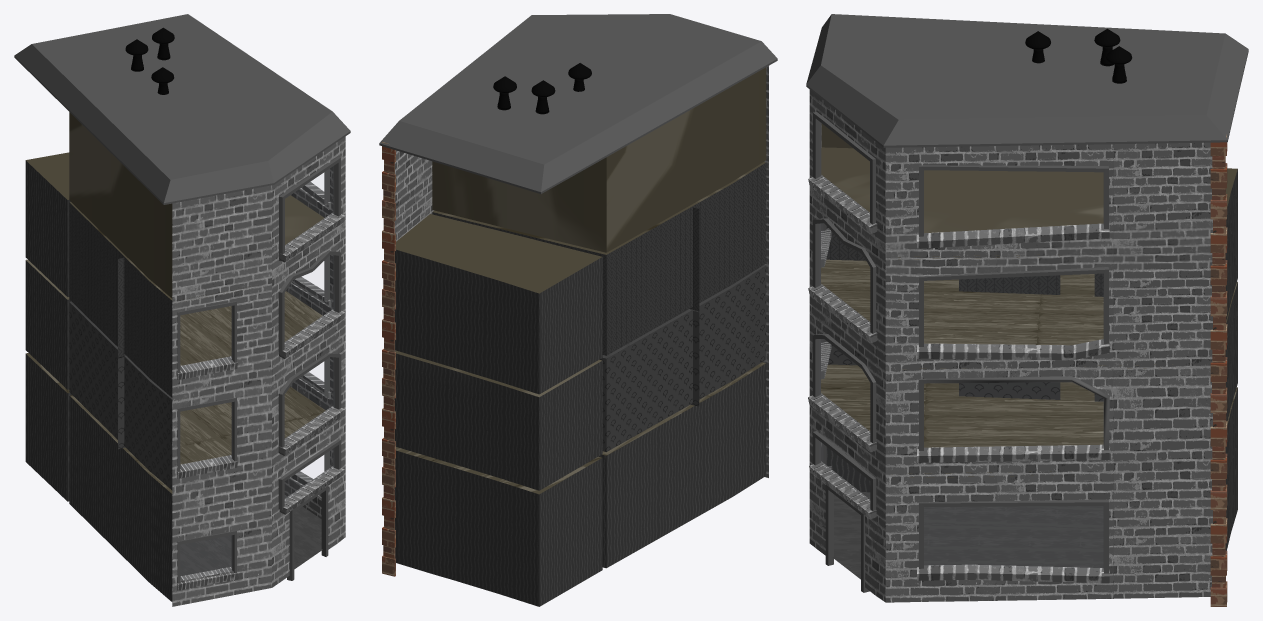
File: Right Building old.fbx
3 views of the same model, side by side, from view 1: azimuth 30°, elevation 25°; view 2: azimuth 150°, elevation 25°; view 3: azimuth 270°, elevation 25° (orthographic). The views are drawn at different scales.
Visible parts, largest first — view 1: Right_Building_Front, Right_Floor_1, Right_Floor_3, Right_Floor_2, Right_Floor_4, polySurface2387, polySurface2386; view 2: Right_Building_Front, Right_Floor_3, Right_Floor_1, Right_Floor_2, Right_Floor_4; view 3: Right_Building_Front, Right_Floor_3, Right_Floor_2, Right_Floor_1, Right_Floor_4, polySurface2387.
Boxes of the visible parts, x1,y1,x2,y2 form: Right_Building_Front: (14,14,350,606); Right_Floor_1: (25,353,322,601); Right_Floor_3: (25,152,322,397); Right_Floor_2: (25,259,325,490); Right_Floor_4: (69,112,324,298); polySurface2387: (152,27,174,60); polySurface2386: (125,39,148,71); Right_Building_Front: (379,14,777,576); Right_Floor_3: (394,162,766,394); Right_Floor_1: (394,362,766,606); Right_Floor_2: (394,264,766,490); Right_Floor_4: (432,67,766,252); Right_Building_Front: (806,14,1248,606); Right_Floor_3: (821,168,1237,369); Right_Floor_2: (821,281,1237,474); Right_Floor_1: (826,387,1237,600); Right_Floor_4: (821,123,1103,257); polySurface2387: (1106,46,1132,83).
Bounding box in the file's own units: 38.36 × 77.73 × 59.76.
